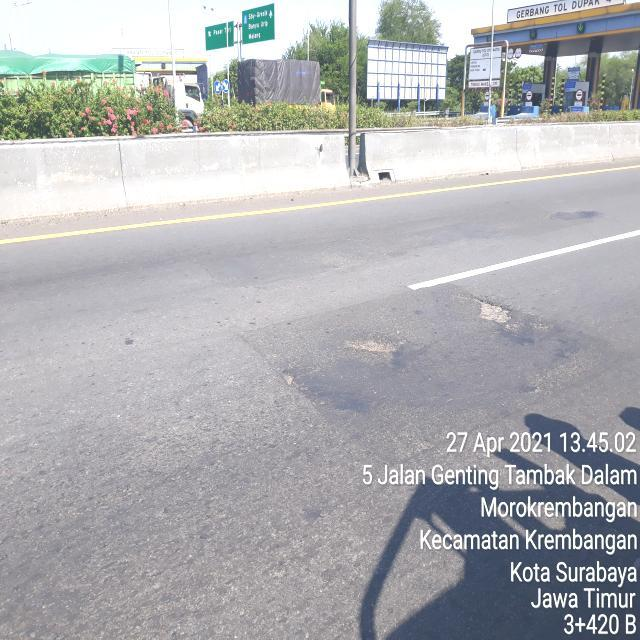Buraco: (469, 295, 515, 326)
